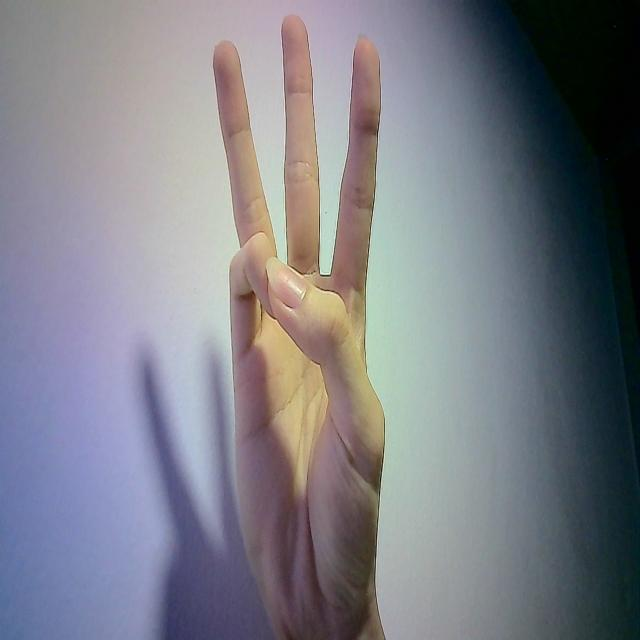W: (202, 4, 408, 640)
